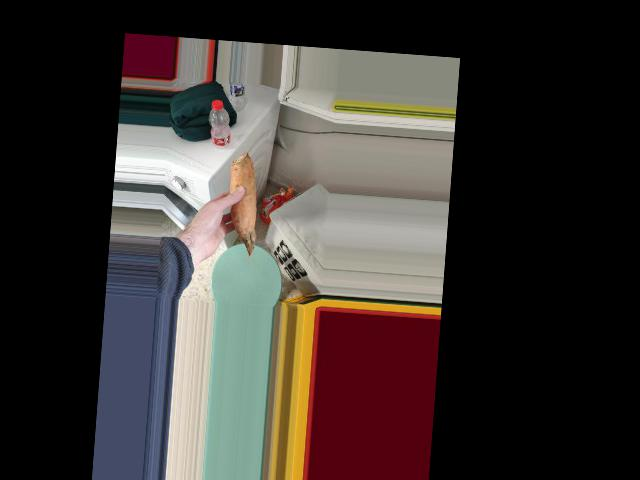sweet_potato: (229, 148, 264, 262)
